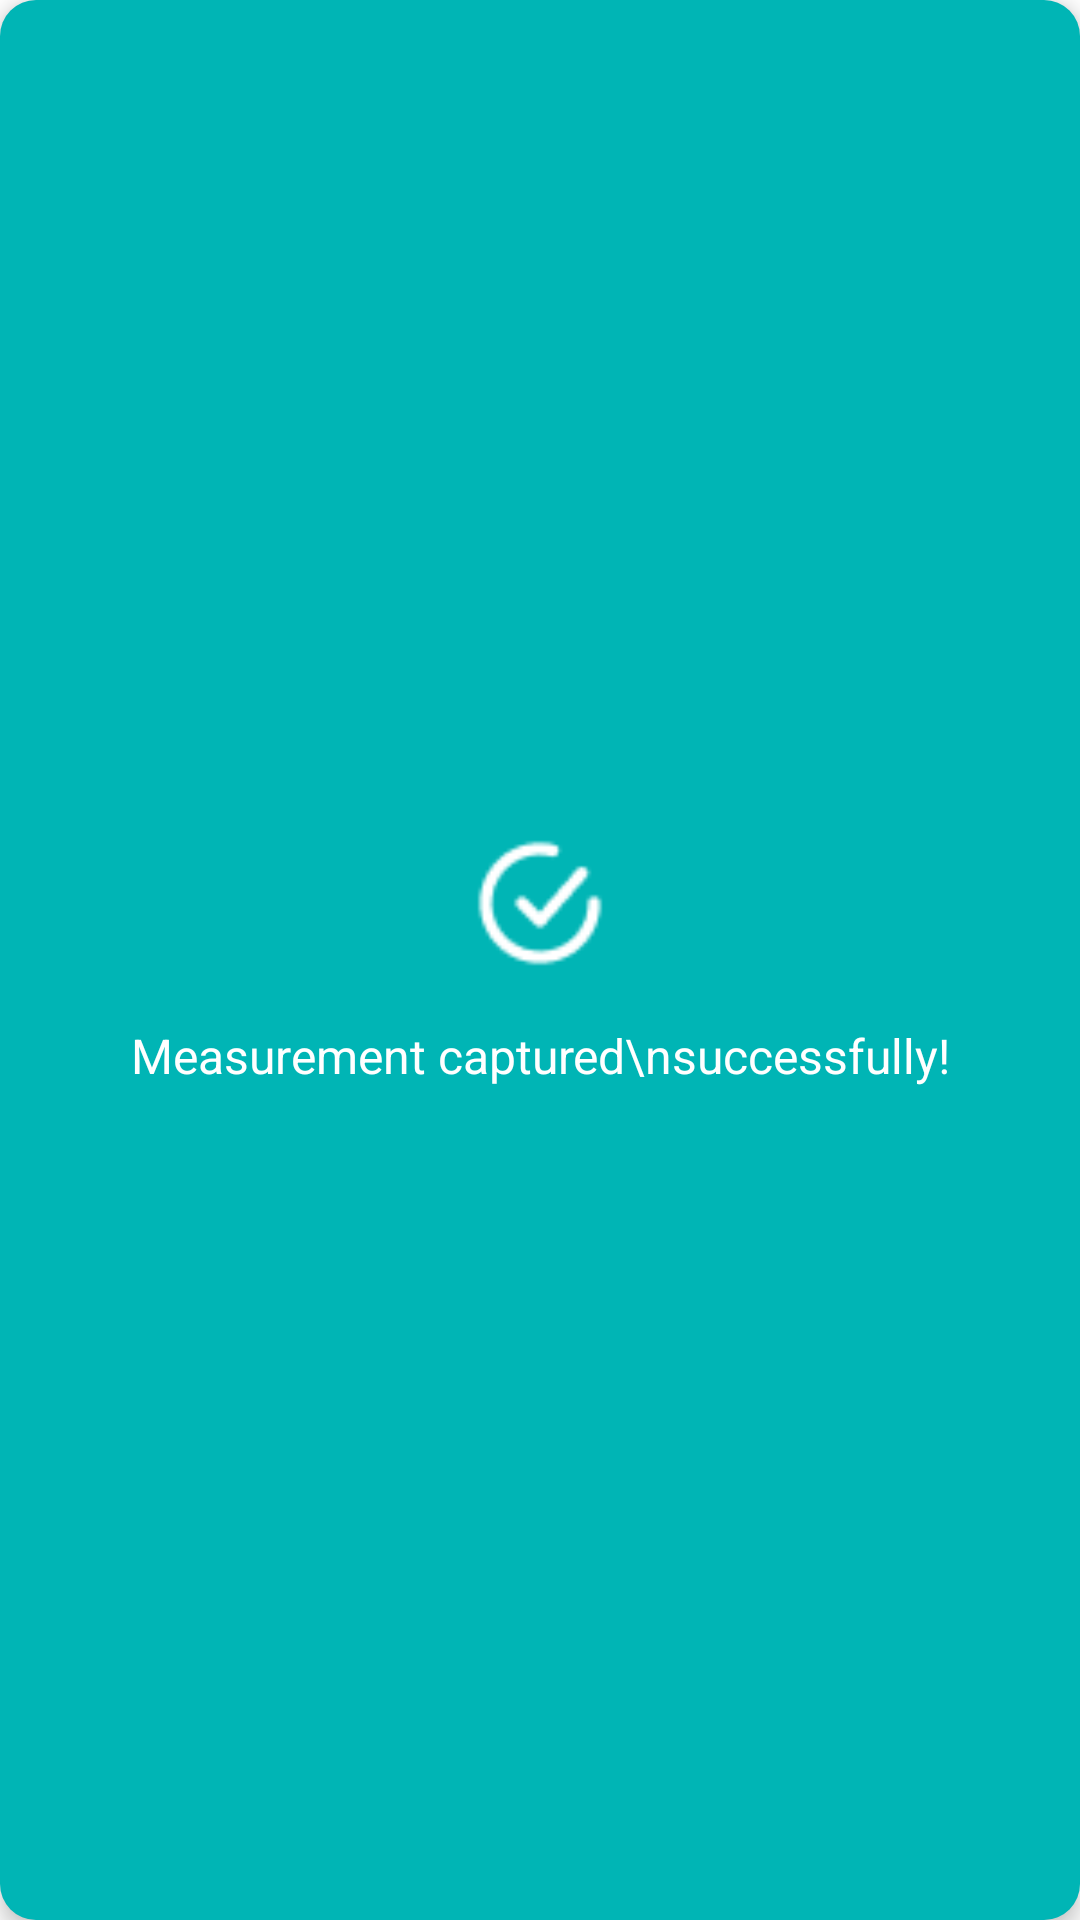

Locate icon controls on the screen. Image size 1080px x 1920px, boxes as [left=x1, top=y1, right=x2, bottom=y2].
Success Icon: [left=478, top=841, right=602, bottom=965]
